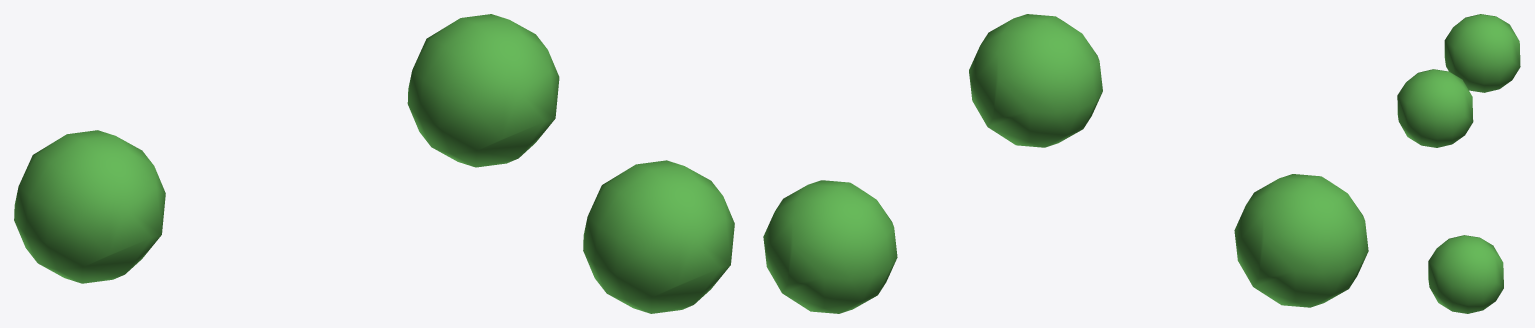
The model's file is linfatico-superomedial-superficial-inguinal-nodes-l.glb.
The picture shows the model from 3 angles, left to right: view 1: azimuth 30°, elevation 25°; view 2: azimuth 150°, elevation 25°; view 3: azimuth 270°, elevation 25°; orthographic projection. The views are drawn at different scales.
Visible parts, largest first — view 1: Superomedial superficial inguinal nodes.l; view 2: Superomedial superficial inguinal nodes.l; view 3: Superomedial superficial inguinal nodes.l.
Boxes of the visible parts, bbox=[...] form: Superomedial superficial inguinal nodes.l: bbox=[14, 14, 734, 313]; Superomedial superficial inguinal nodes.l: bbox=[763, 14, 1368, 313]; Superomedial superficial inguinal nodes.l: bbox=[1397, 14, 1520, 313].
Bounding box in the file's own units: 0.0133 × 0.00661 × 0.00395.
